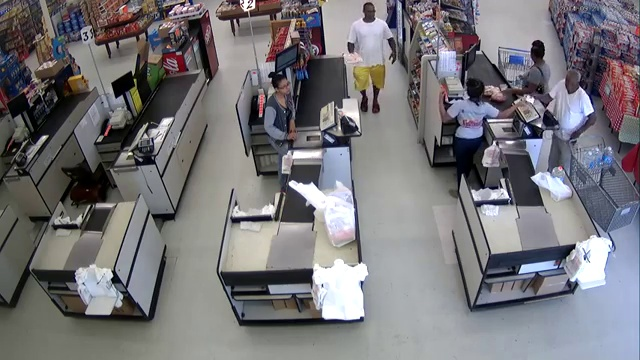face: (565, 76, 579, 92), (365, 5, 376, 19), (279, 81, 290, 94)
